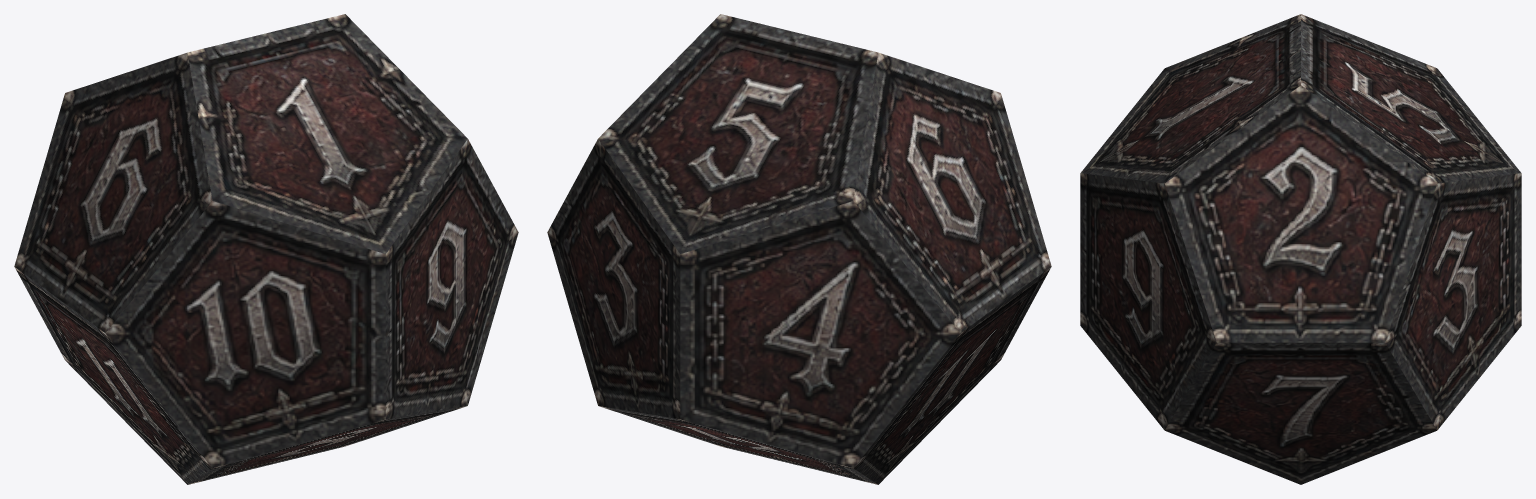
3 views of the same model, side by side, from view 1: azimuth 30°, elevation 25°; view 2: azimuth 150°, elevation 25°; view 3: azimuth 270°, elevation 25° (orthographic). The views are drawn at different scales.
Visible parts, largest first — view 1: Themed_D12; view 2: Themed_D12; view 3: Themed_D12.
Part boxes in pixels (<box>): Themed_D12: <box>14,14,518,484</box>; Themed_D12: <box>547,14,1051,484</box>; Themed_D12: <box>1080,14,1521,484</box>.
Size of the model in its own units: 1.35 by 1.35 by 1.35.
Materials: 1 (1 with a texture image).
